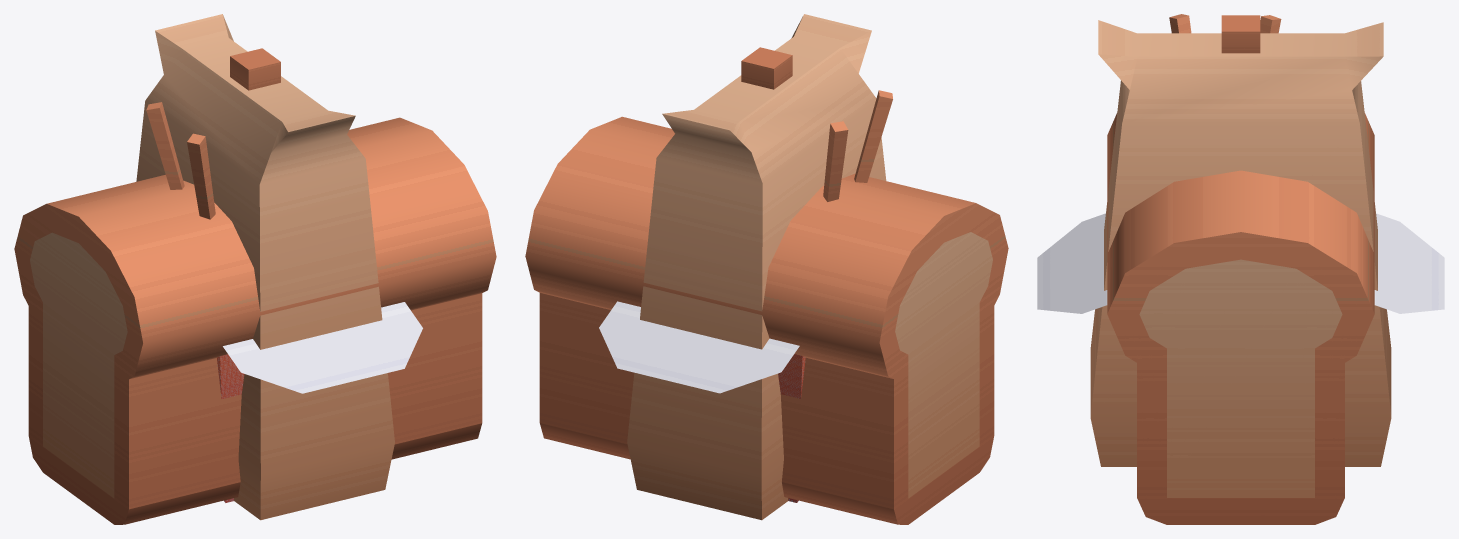
File: food.glb
The picture shows the model from 3 angles, left to right: view 1: azimuth 30°, elevation 25°; view 2: azimuth 150°, elevation 25°; view 3: azimuth 270°, elevation 25°; orthographic projection. The views are drawn at different scales.
Visible parts, largest first — view 1: loaf, bag, chinese, chopstick (×2), bottle-oil; view 2: loaf, bag, chinese, chopstick (×2), bottle-oil; view 3: loaf, bag, chinese, bottle-oil.
Part boxes in pixels (left/top/right/bottom): loaf: left=14, top=117, right=496, bottom=524; bag: left=136, top=14, right=394, bottom=520; chinese: left=217, top=302, right=422, bottom=502; chopstick (×2): left=146, top=102, right=215, bottom=219; bottle-oil: left=230, top=48, right=280, bottom=90; loaf: left=525, top=116, right=1008, bottom=524; bag: left=627, top=14, right=886, bottom=520; chinese: left=599, top=301, right=805, bottom=502; chopstick (×2): left=823, top=90, right=892, bottom=201; bottle-oil: left=741, top=47, right=792, bottom=89; loaf: left=1107, top=113, right=1374, bottom=524; bag: left=1090, top=20, right=1391, bottom=466; chinese: left=1037, top=213, right=1444, bottom=313; bottle-oil: left=1221, top=15, right=1260, bottom=53.
Bounding box in the file's own units: 0.5797 × 0.6218 × 0.5575.
Materials: 1 (1 with a texture image).
